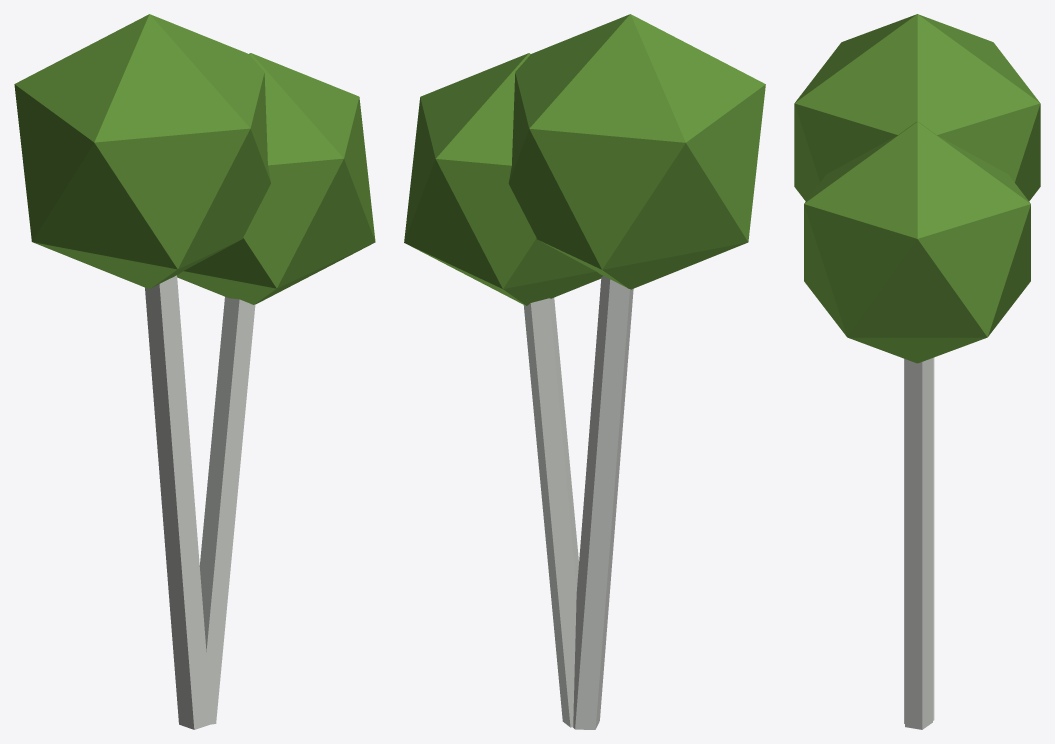
Rendered from birch_twin.glb.
3 renders of one model, left to right at view 1: azimuth 30°, elevation 25°; view 2: azimuth 150°, elevation 25°; view 3: azimuth 270°, elevation 25°, orthographic. The views are drawn at different scales.
Parts seen in each view (by area): view 1: BirchTwin; view 2: BirchTwin; view 3: BirchTwin.
Boxes of the visible parts, box(x1,y1,x2,y2) form: BirchTwin: box(14, 14, 375, 729); BirchTwin: box(404, 14, 765, 729); BirchTwin: box(794, 14, 1040, 729).
Bounding box in the file's own units: 3.24 × 6.8 × 2.21.
